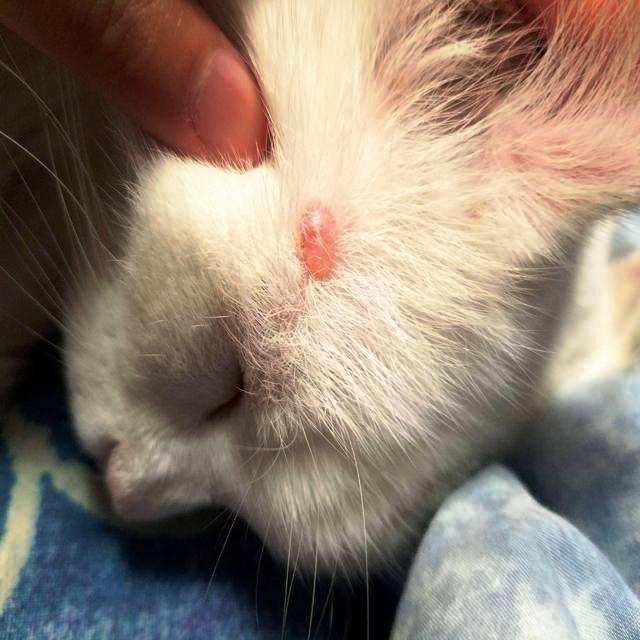lump_and_bump: (298, 209, 337, 281)
